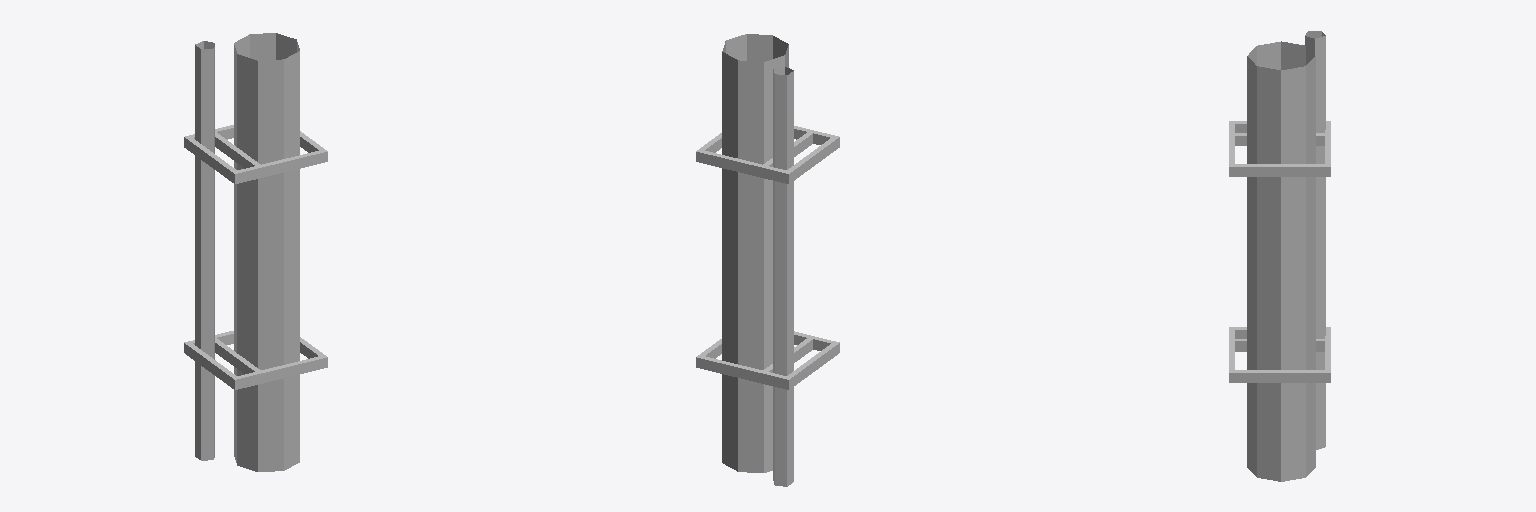
File: Pipes_D_Long.obj
3 renders of one model, left to right at view 1: azimuth 30°, elevation 25°; view 2: azimuth 150°, elevation 25°; view 3: azimuth 270°, elevation 25°, orthographic.
Visible parts, largest first — view 1: Pipes_vertical_long; view 2: Pipes_vertical_long; view 3: Pipes_vertical_long.
Part boxes in pixels (x1,y1,x2,y2): Pipes_vertical_long: (184, 33, 327, 471); Pipes_vertical_long: (696, 34, 839, 486); Pipes_vertical_long: (1229, 31, 1330, 481).
Size of the model in its own units: 1.09 by 4.58 by 1.03.